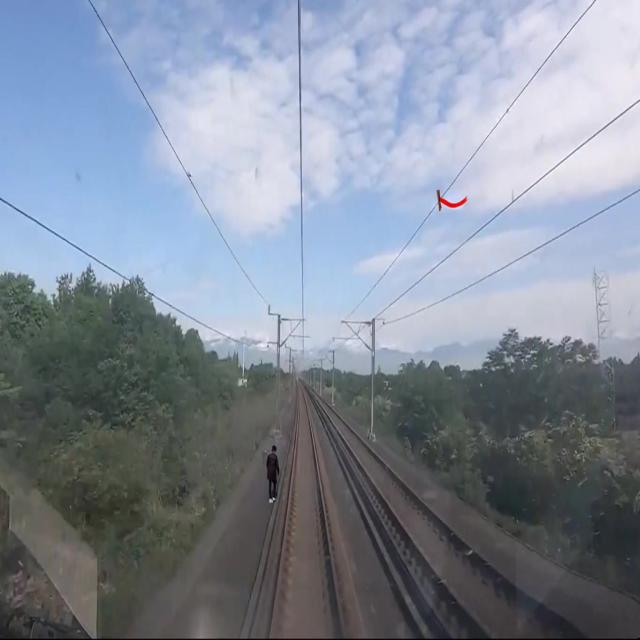floating object: (435, 189, 468, 214)
